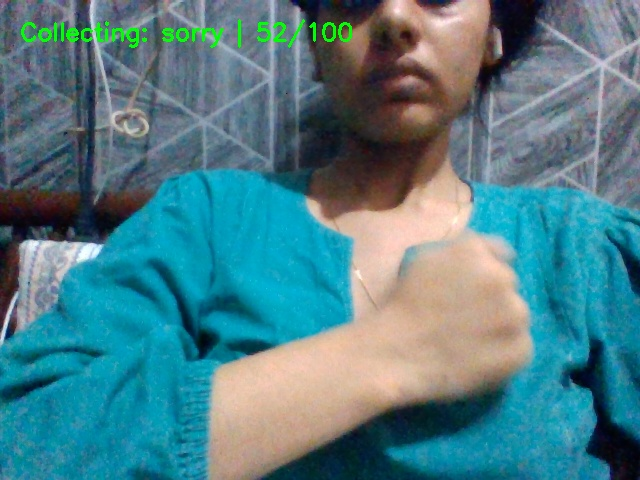sorry: (383, 226, 549, 424)
